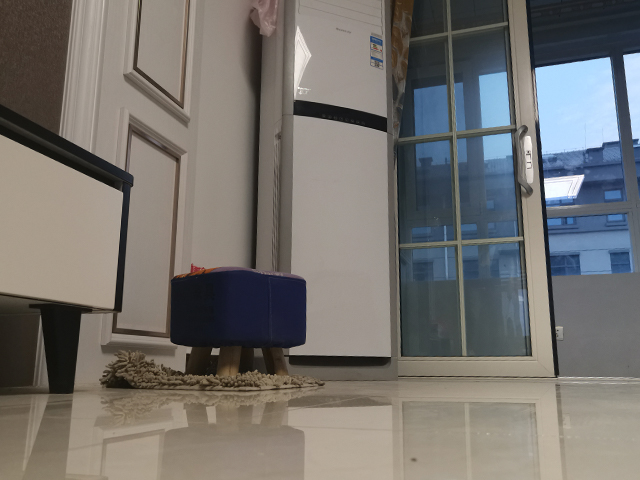cabinet: (1, 103, 133, 395)
carpet: (95, 346, 329, 393)
stool: (169, 263, 309, 379)
